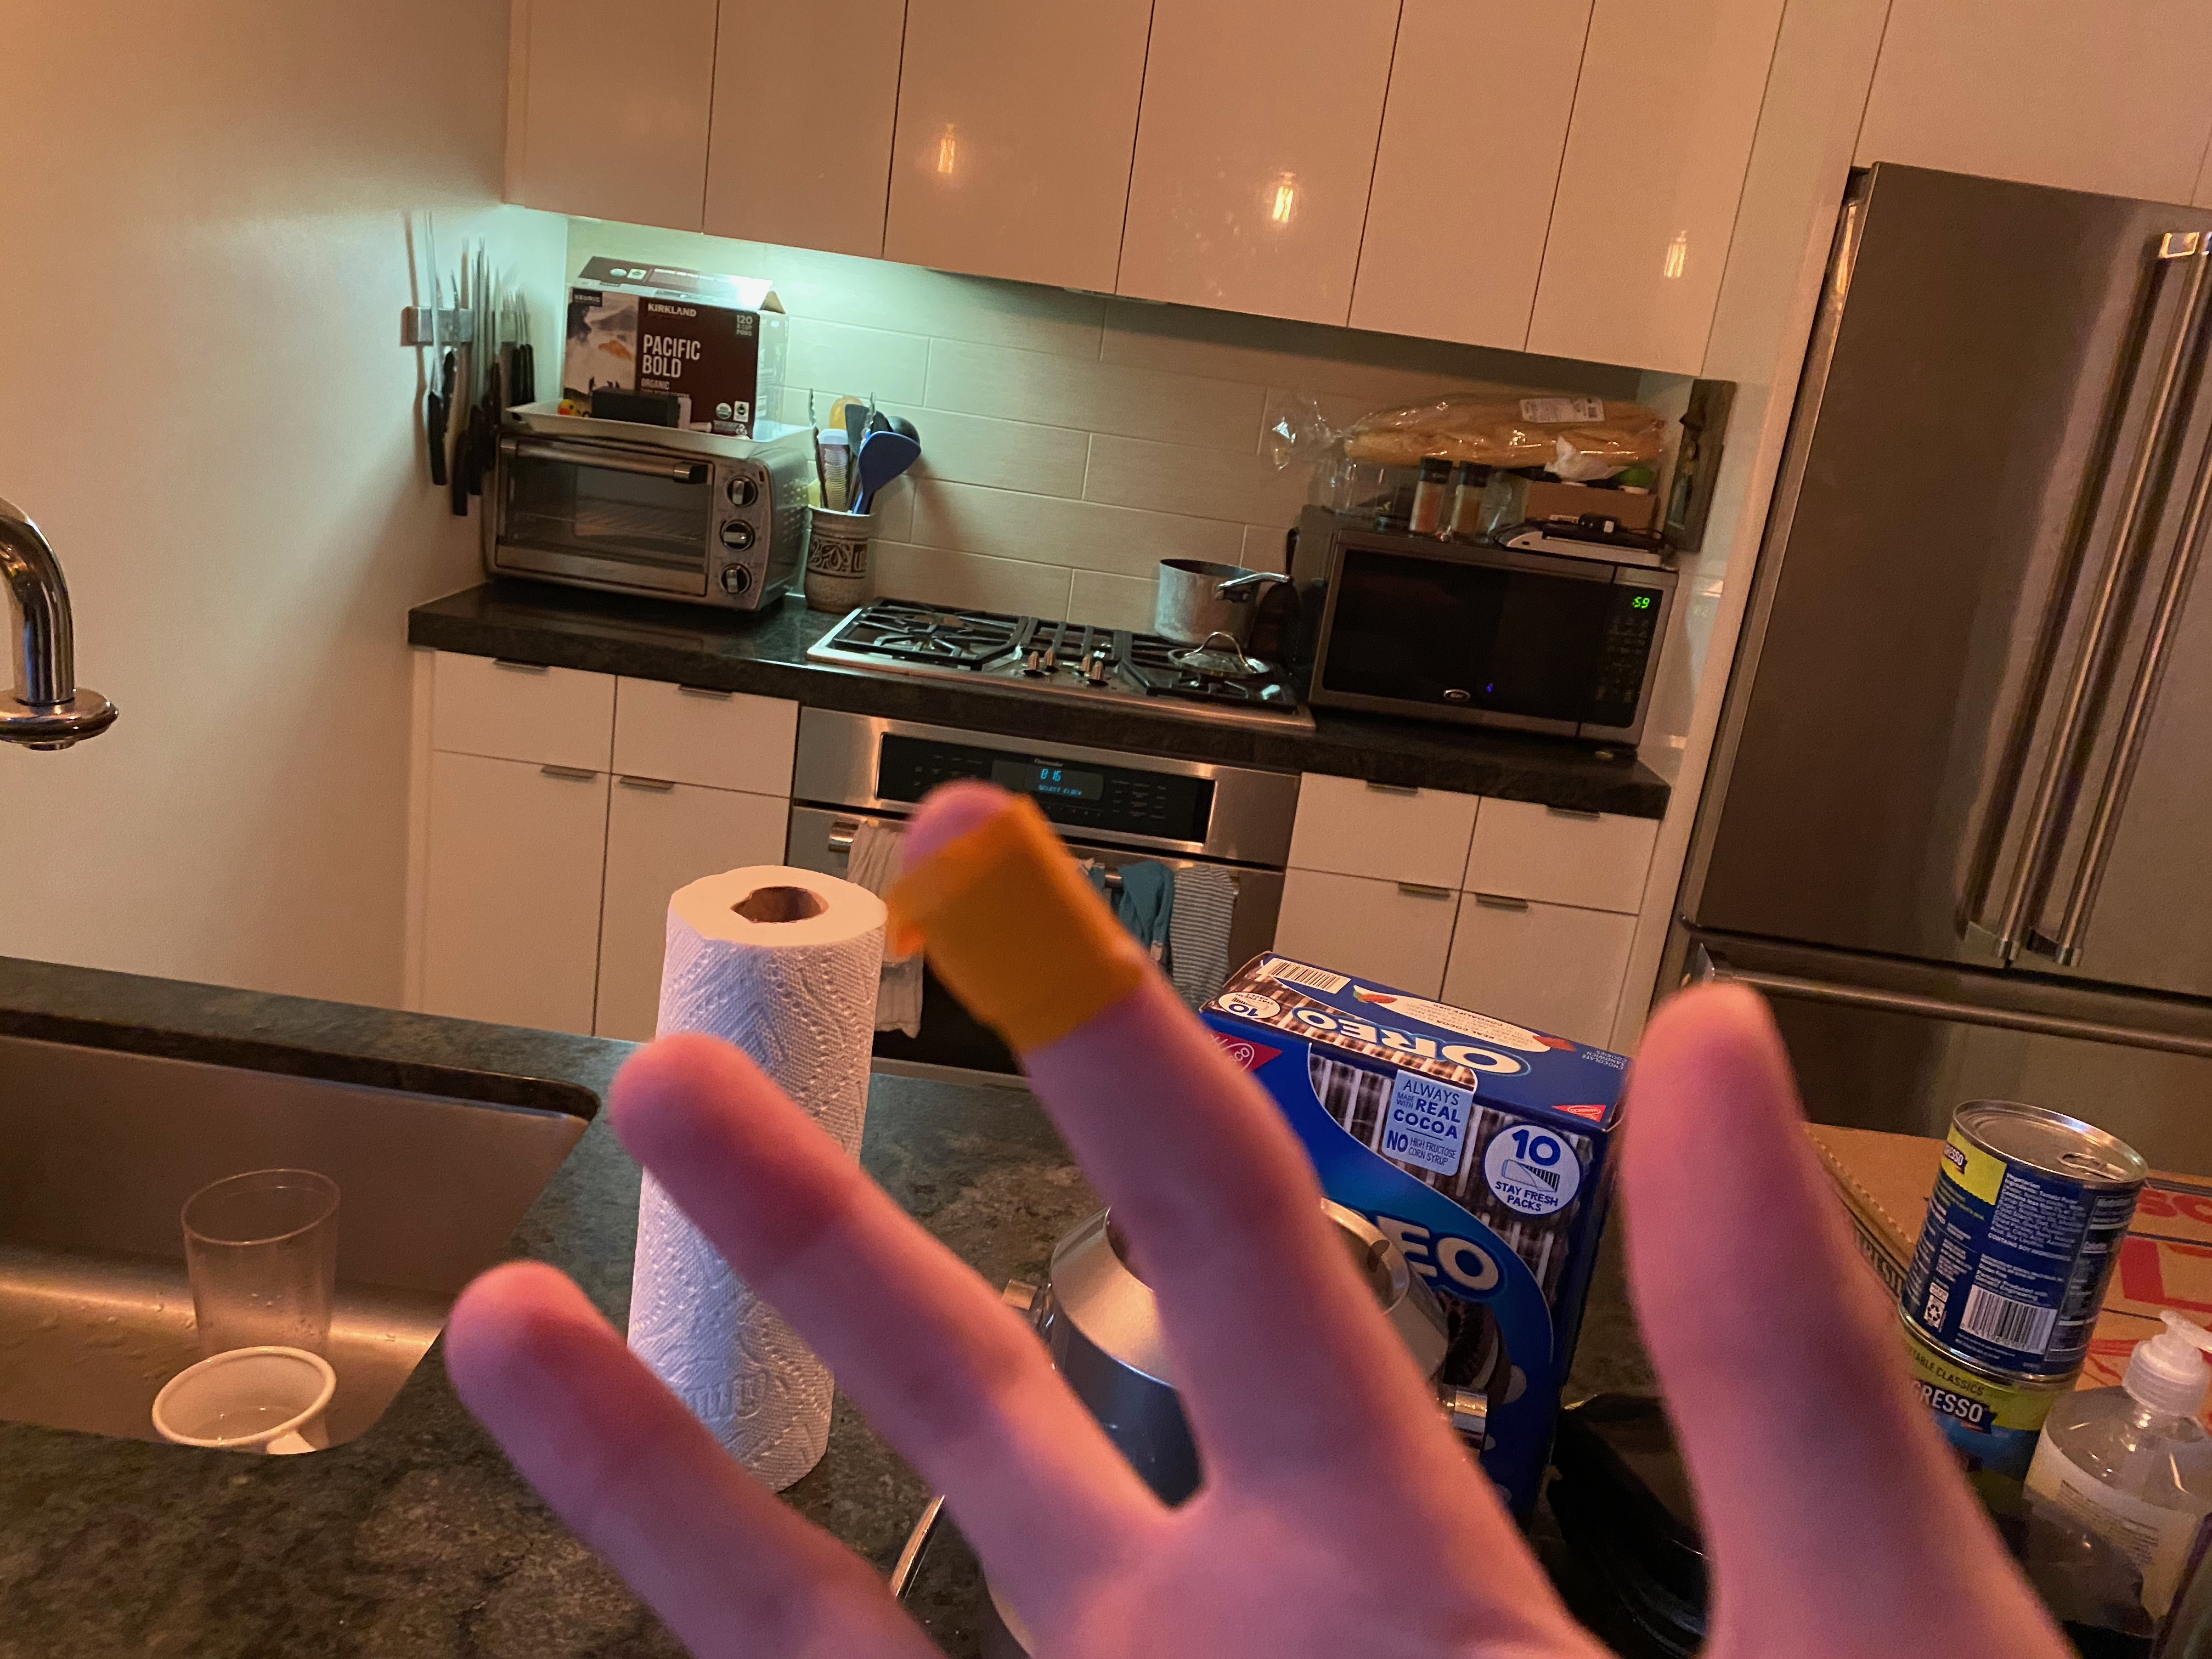fingertip: (862, 753, 1167, 1065)
